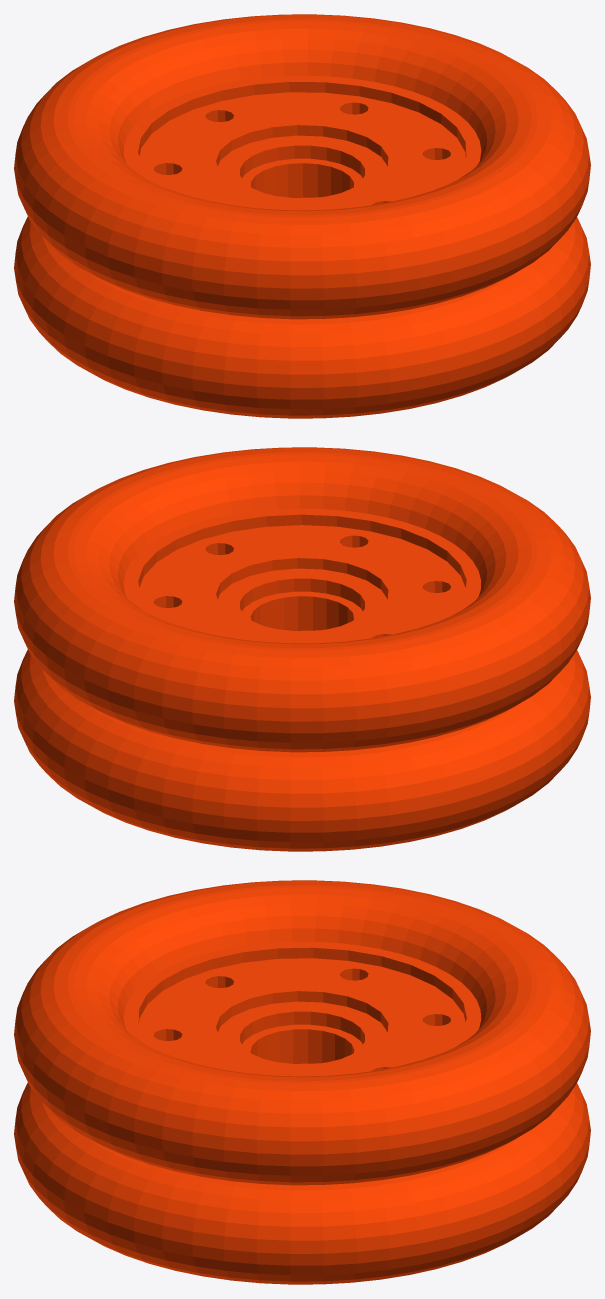
The model's file is wheel_front_left_link.dae.
3 views of the same model, one above another, from view 1: azimuth 30°, elevation 25°; view 2: azimuth 150°, elevation 25°; view 3: azimuth 270°, elevation 25° (orthographic).
Visible parts, largest first — view 1: skp61d8 (×8); view 2: skp61d8 (×8); view 3: skp61d8 (×8).
Boxes of the visible parts, x1,y1,x2,y2 form: skp61d8 (×8): (14,14,590,418); skp61d8 (×8): (14,447,590,851); skp61d8 (×8): (14,880,590,1284).
Size of the model in its own units: 3.93 by 3.94 by 1.74.
